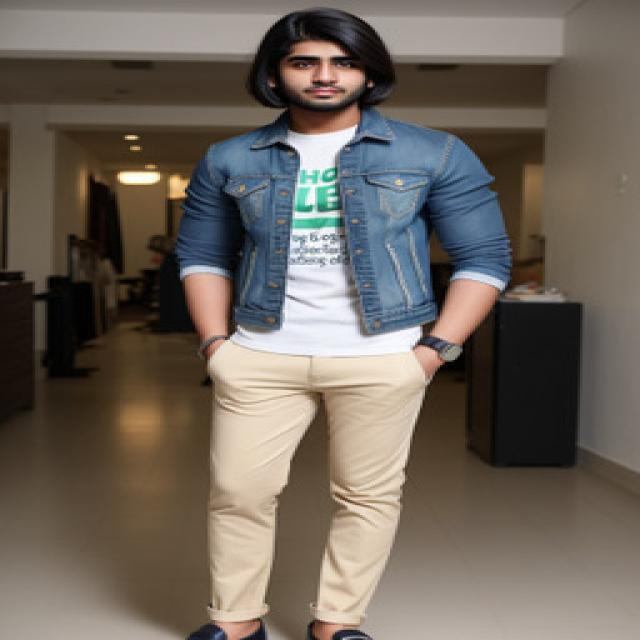Ai human 2: (162, 0, 500, 640)
